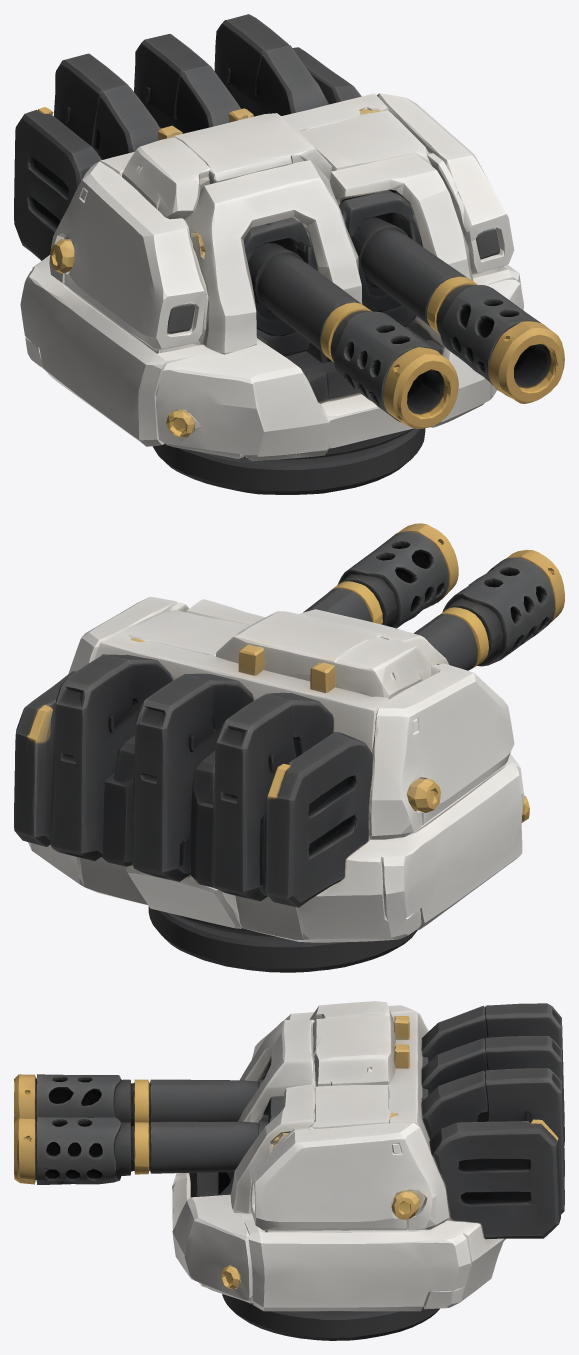
The model's file is autocannon_bang.glb.
The picture shows the model from 3 angles, top to bottom: view 1: azimuth 30°, elevation 25°; view 2: azimuth 150°, elevation 25°; view 3: azimuth 270°, elevation 25°; orthographic projection. The views are drawn at different scales.
Parts seen in each view (by area): view 1: root.1, root.0, root.2; view 2: root.1, root.0, root.2; view 3: root.1, root.2, root.0.
Part boxes in pixels (<box>): root.1: <box>14,14,523,494</box>; root.0: <box>243,217,458,428</box>; root.2: <box>339,190,564,403</box>; root.1: <box>14,596,529,972</box>; root.0: <box>413,550,564,670</box>; root.2: <box>303,523,458,628</box>; root.1: <box>172,1001,564,1340</box>; root.2: <box>14,1096,283,1184</box>; root.0: <box>14,1058,271,1129</box>.
Bounding box in the file's own units: 1.26 × 0.9636 × 1.9.
Materials: 3 (3 with a texture image).
